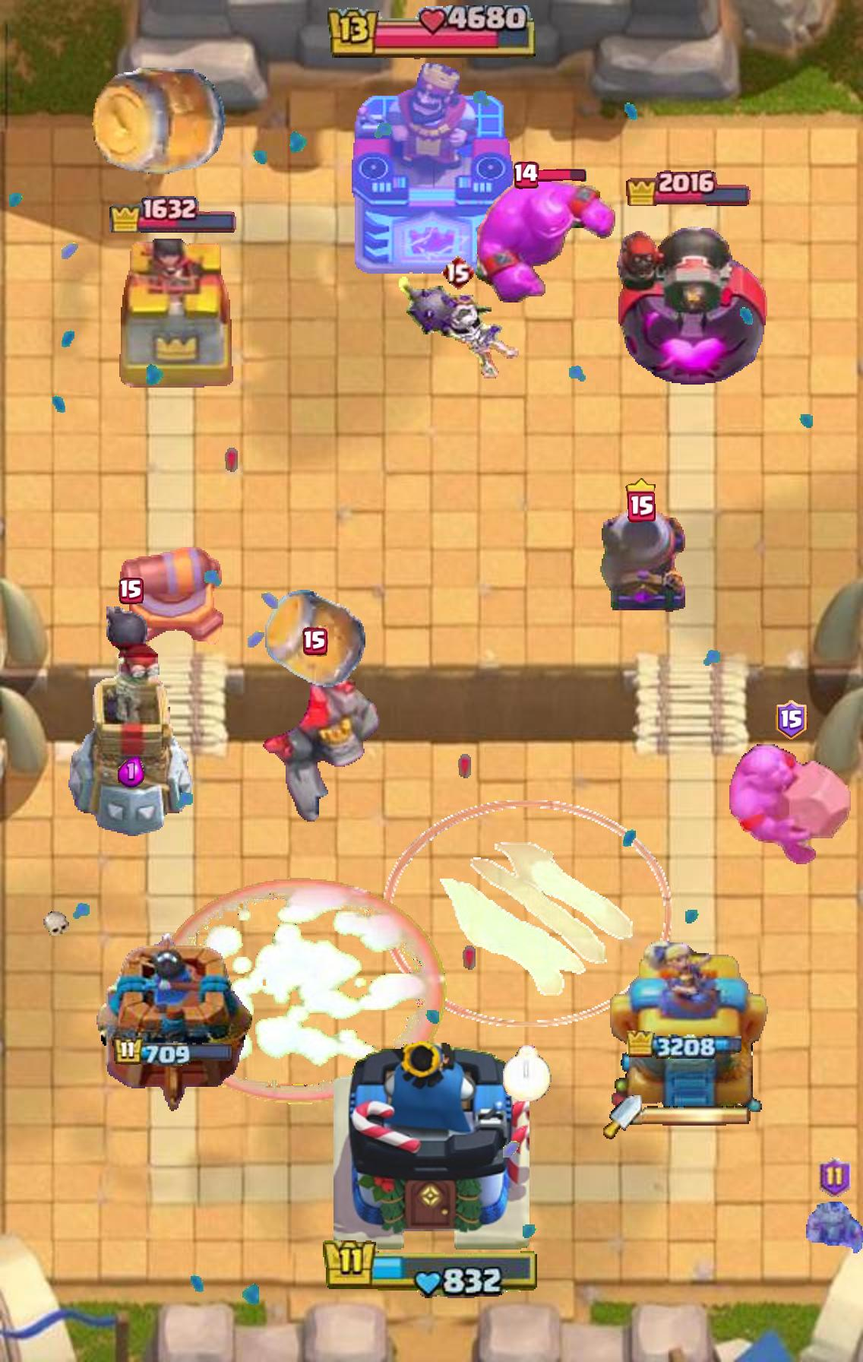bar: (535, 168, 586, 181)
bar-level: (625, 478, 656, 523), (775, 700, 808, 740), (819, 1158, 851, 1197), (441, 254, 474, 290), (302, 626, 329, 657), (514, 161, 539, 189), (118, 577, 143, 604)
